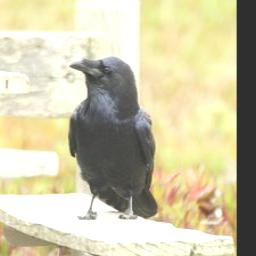Crow: (66, 55, 158, 220)
